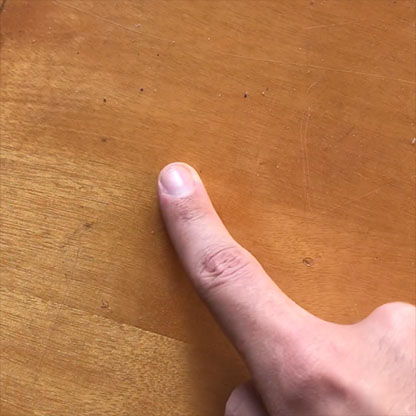fingertip: (147, 156, 208, 210)
